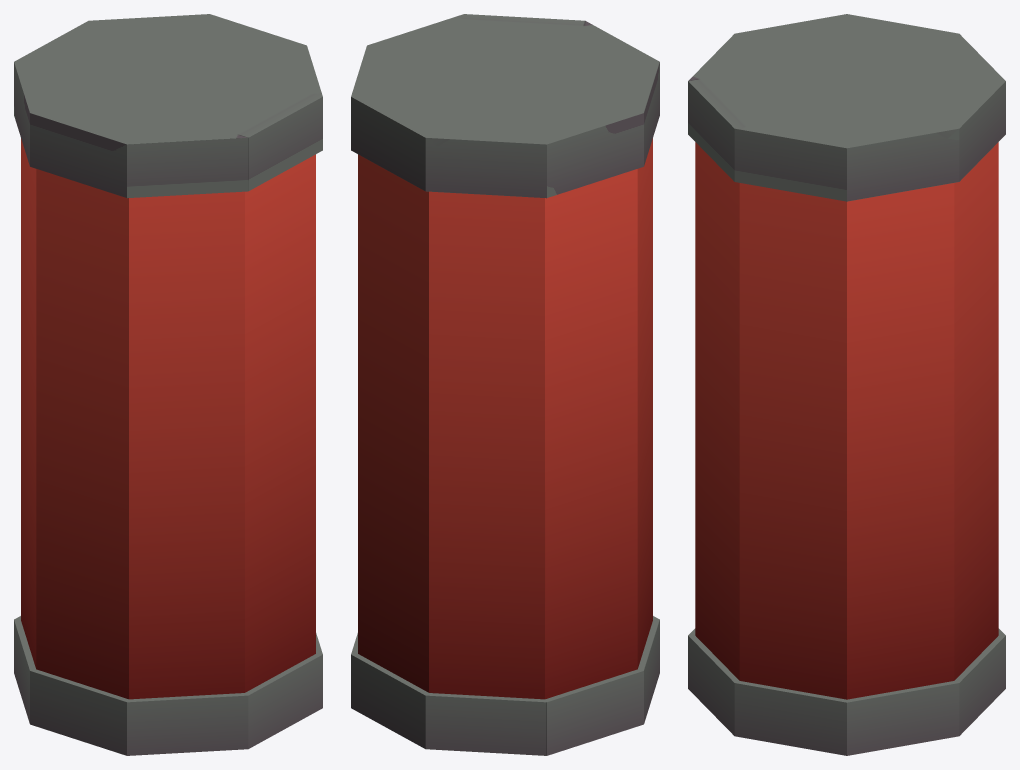
The model's file is Potato Chips.glb.
3 views of the same model, side by side, from view 1: azimuth 30°, elevation 25°; view 2: azimuth 150°, elevation 25°; view 3: azimuth 270°, elevation 25° (orthographic).
Visible parts, largest first — view 1: Cylinder, Cylinder.001, Cylinder.002; view 2: Cylinder, Cylinder.001, Cylinder.002; view 3: Cylinder, Cylinder.001, Cylinder.002.
Boxes of the visible parts, box(x1,y1,x2,y2) form: Cylinder: box(21, 138, 315, 699); Cylinder.001: box(14, 14, 322, 198); Cylinder.002: box(14, 616, 322, 755); Cylinder: box(358, 138, 652, 699); Cylinder.001: box(351, 14, 659, 198); Cylinder.002: box(351, 616, 659, 755); Cylinder: box(695, 142, 998, 699); Cylinder.001: box(688, 14, 1005, 201); Cylinder.002: box(688, 628, 1005, 755).
Bounding box in the file's own units: 1.38 × 2.92 × 1.38.
Materials: 2 (2 with a texture image).
